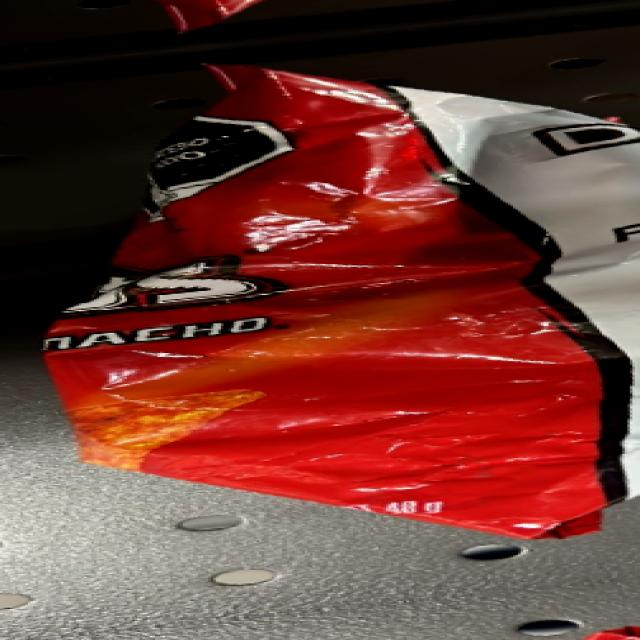doritosNacho: (63, 155, 456, 497)
